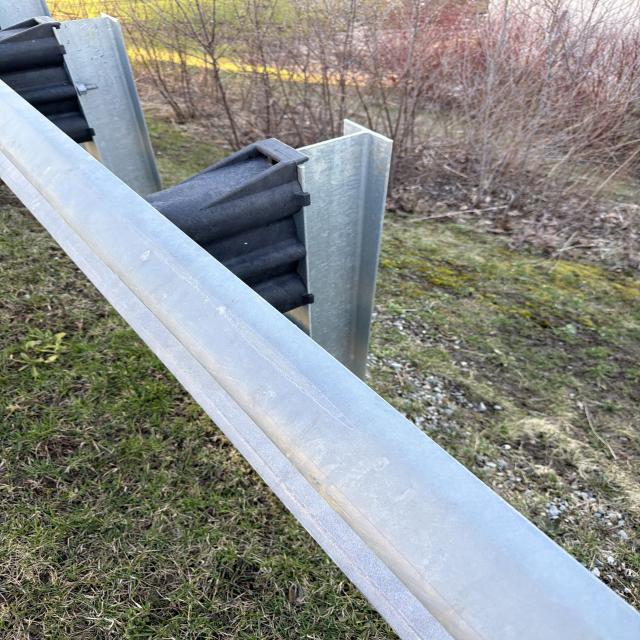Guard rail: (0, 67, 608, 614)
